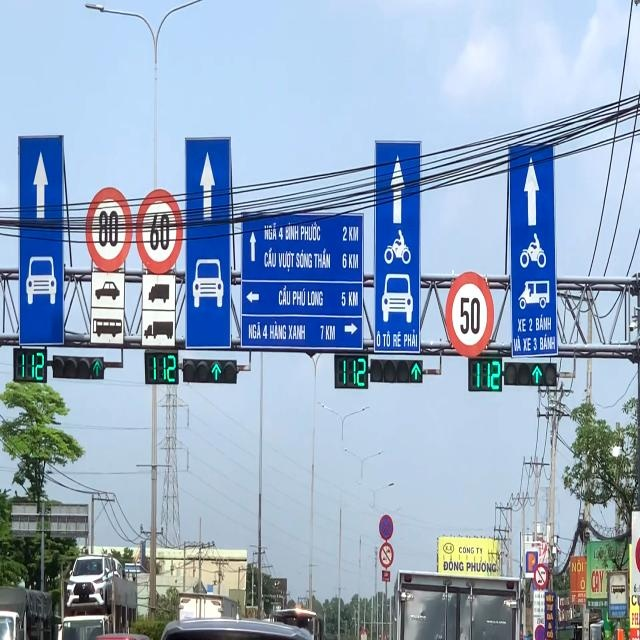bien_chi_dan: (84, 182, 133, 274), (446, 268, 494, 358), (134, 188, 182, 273), (378, 514, 394, 542)
